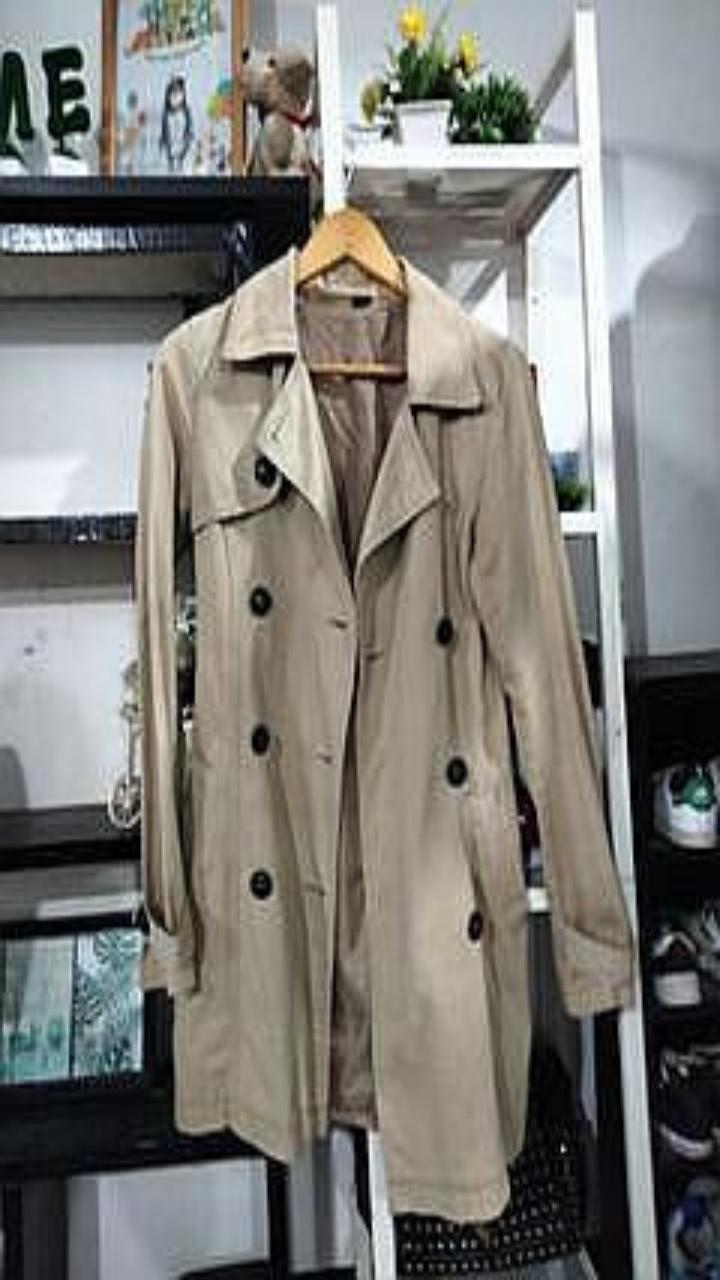Coat: (136, 250, 632, 1220)
